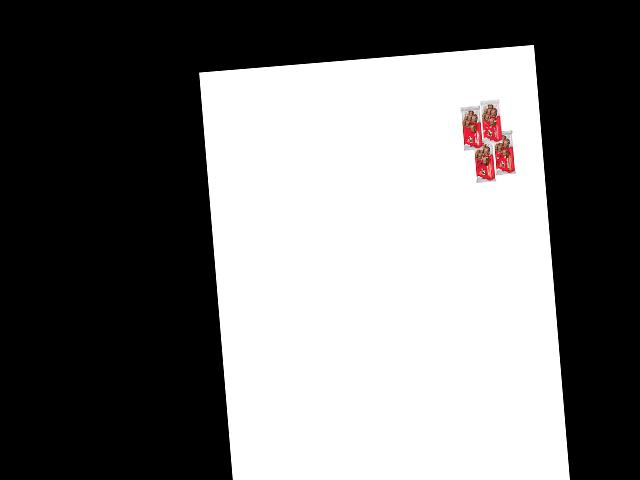chocolate: (488, 127, 518, 179)
